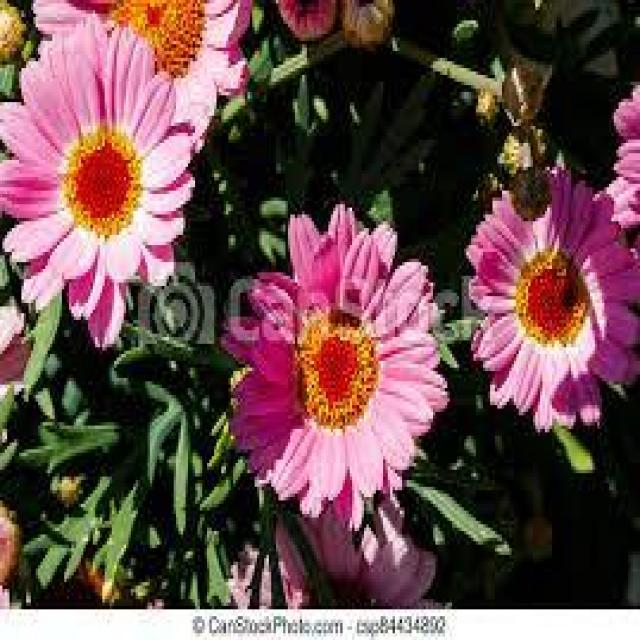organic waste: (226, 206, 443, 526), (0, 23, 193, 350), (458, 145, 636, 434)
